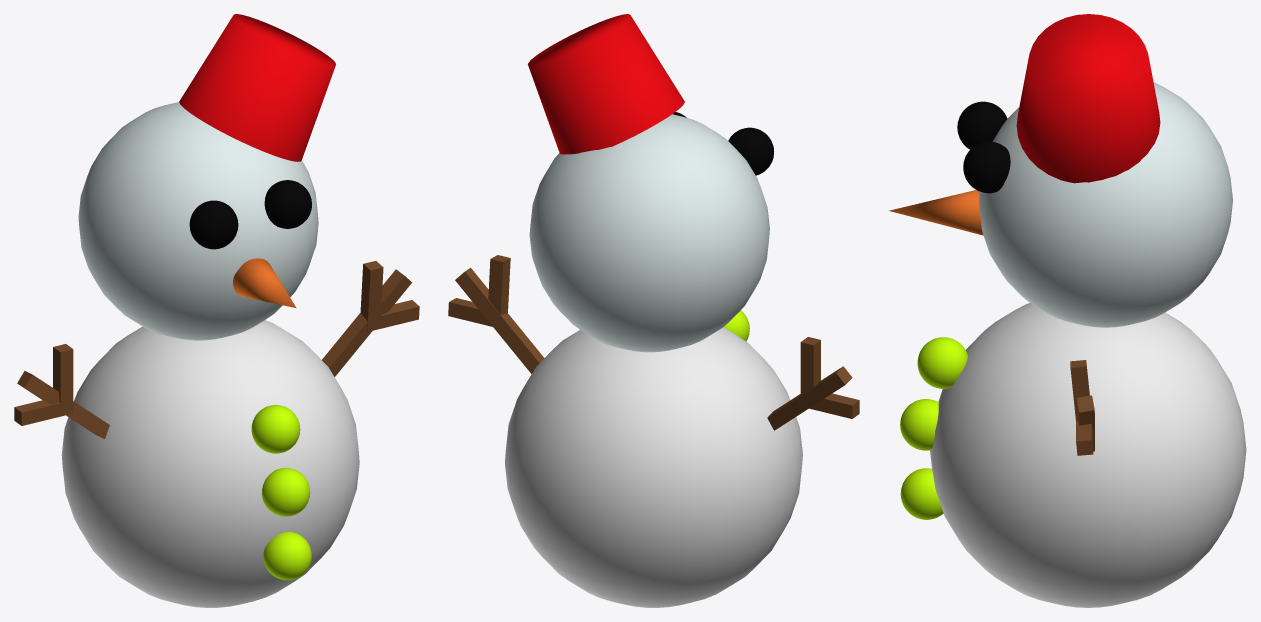
3 views of the same model, side by side, from view 1: azimuth 30°, elevation 25°; view 2: azimuth 150°, elevation 25°; view 3: azimuth 270°, elevation 25° (orthographic). The views are drawn at different scales.
Parts seen in each view (by area): view 1: 球, 球.001, 円柱, 立方体.004, 立方体, 球.005, 球.002, 球.004, 球.006, 球.003, 円錐; view 2: 球, 球.001, 円柱, 立方体.004, 立方体, 球.002; view 3: 球, 球.001, 円柱, 円錐, 球.005, 球.003, 立方体.004, 球.002, 球.006, 球.004.
Part boxes in pixels (<box>): 球: <box>61,320,359,607</box>; 球.001: <box>78,102,318,340</box>; 円柱: <box>179,14,335,161</box>; 立方体.004: <box>322,261,419,376</box>; 立方体: <box>14,344,109,439</box>; 球.005: <box>251,405,300,453</box>; 球.002: <box>189,200,238,249</box>; 球.004: <box>261,468,310,516</box>; 球.006: <box>263,531,311,580</box>; 球.003: <box>264,180,311,228</box>; 円錐: <box>233,258,296,308</box>; 球: <box>505,327,802,607</box>; 球.001: <box>529,114,769,352</box>; 円柱: <box>528,14,684,154</box>; 立方体.004: <box>448,255,544,373</box>; 立方体: <box>767,337,859,430</box>; 球.002: <box>728,127,773,175</box>; 球: <box>930,303,1246,607</box>; 球.001: <box>978,82,1232,327</box>; 円柱: <box>1016,14,1160,183</box>; 円錐: <box>889,190,983,235</box>; 球.005: <box>917,337,967,388</box>; 球.003: <box>963,141,1010,193</box>; 立方体.004: <box>1070,360,1094,455</box>; 球.002: <box>957,101,1007,149</box>; 球.006: <box>900,468,943,519</box>; 球.004: <box>900,399,938,450</box>.
Bounding box in the file's own units: 1.4 × 1.87 × 1.02.
